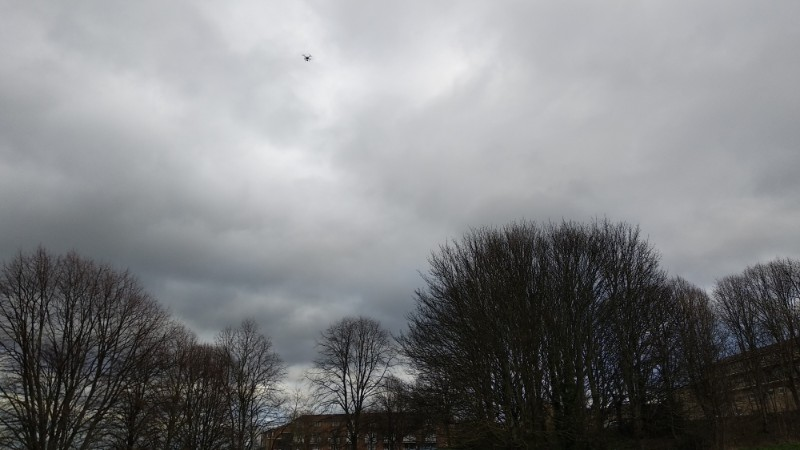drone: (302, 53, 314, 63)
